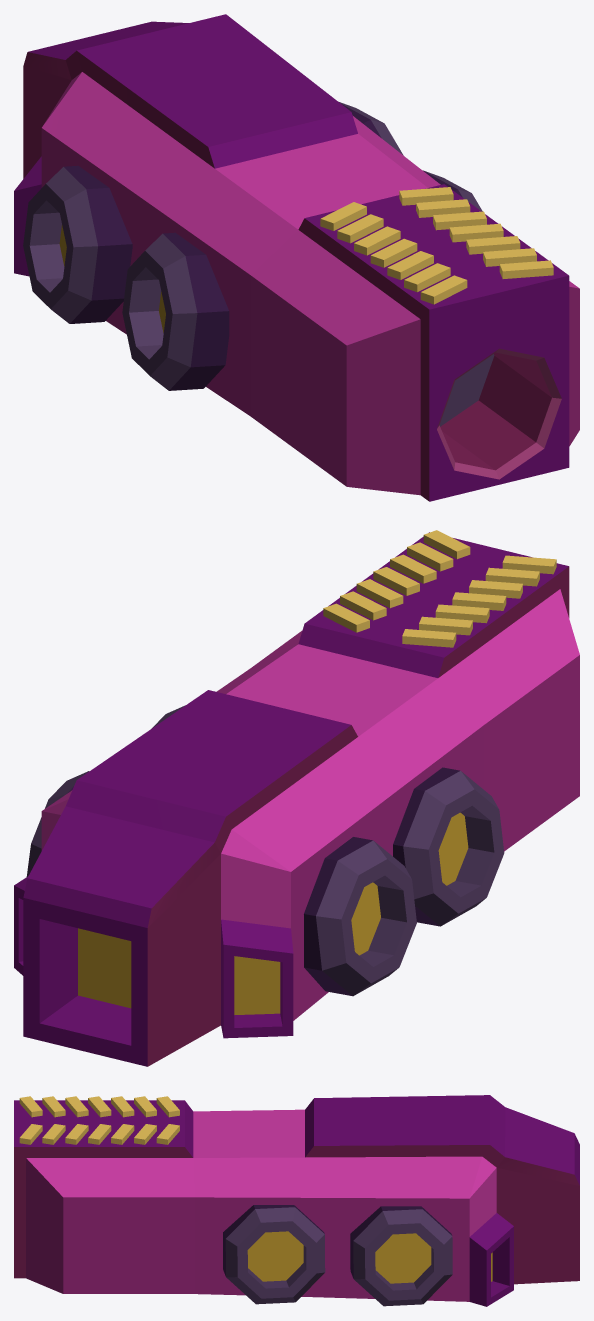
File: 3D_Model_Ship.FBX
3 renders of one model, top to bottom at view 1: azimuth 30°, elevation 25°; view 2: azimuth 150°, elevation 25°; view 3: azimuth 270°, elevation 25°, orthographic. The views are drawn at different scales.
Parts seen in each view (by area): view 1: Grappler Enemy; view 2: Grappler Enemy; view 3: Grappler Enemy.
Part boxes in pixels (x1,y1,x2,y2): Grappler Enemy: (14, 14, 579, 501); Grappler Enemy: (14, 530, 579, 1066); Grappler Enemy: (14, 1095, 579, 1306).
Size of the model in its own units: 104 by 59.76 by 216.
Materials: 1 (1 with a texture image).
